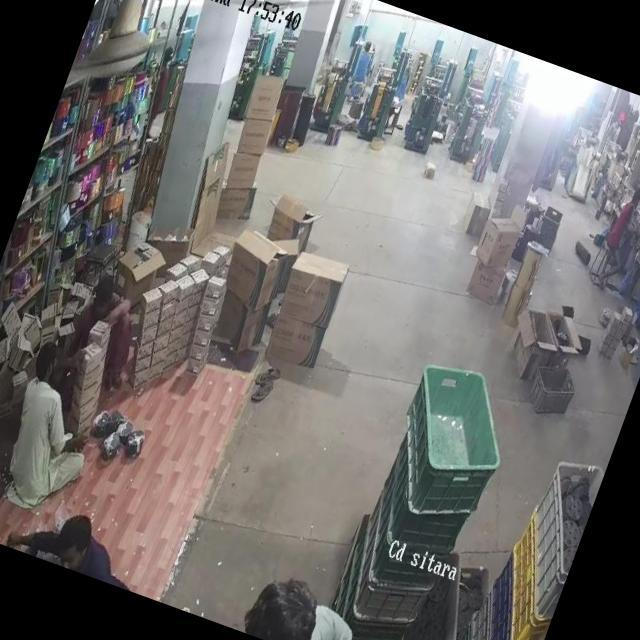person: (0, 339, 126, 517), (6, 489, 156, 593), (63, 264, 157, 384), (237, 569, 363, 640), (134, 43, 186, 143), (594, 178, 640, 290), (349, 40, 379, 89)
